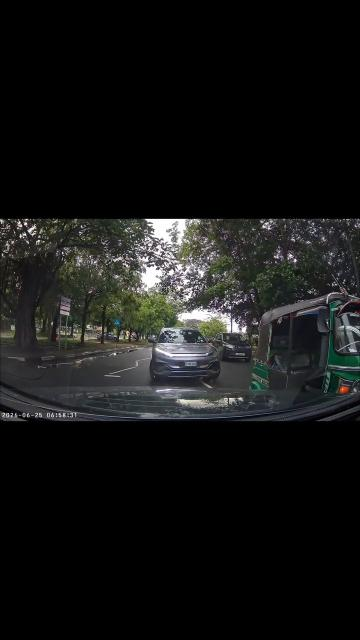illegal overtaking: (141, 328, 224, 393)
